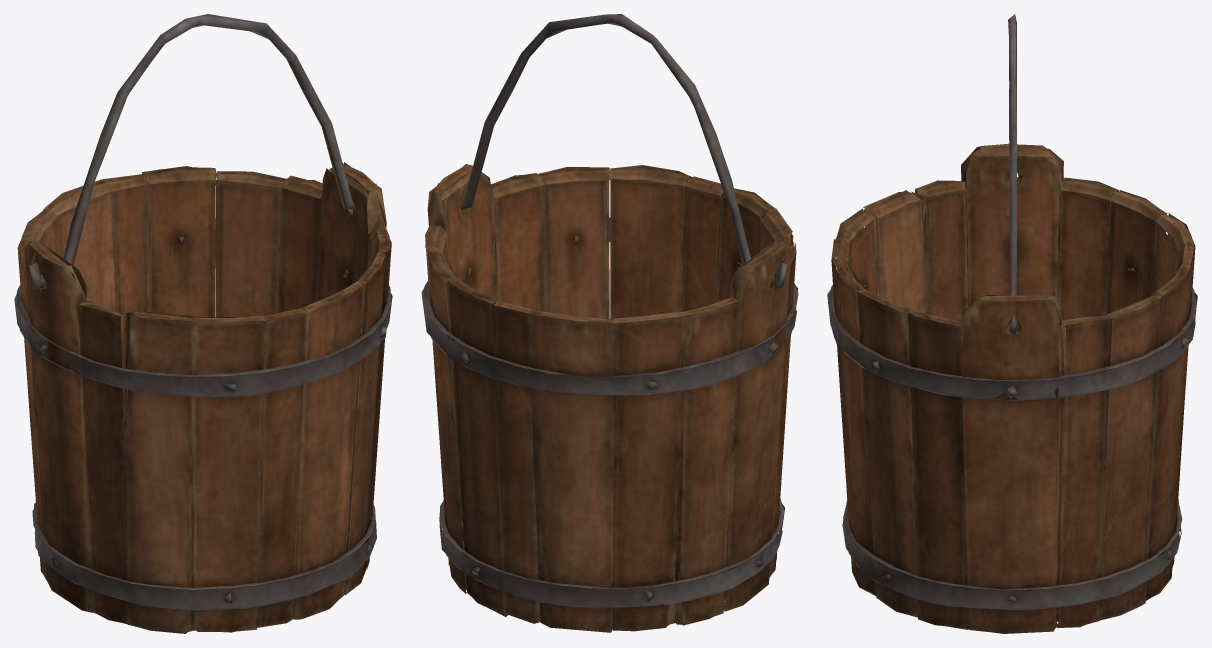
Rendered from wooden_bucket_01.glb.
The picture shows the model from 3 angles, left to right: view 1: azimuth 30°, elevation 25°; view 2: azimuth 150°, elevation 25°; view 3: azimuth 270°, elevation 25°; orthographic projection.
Parts seen in each view (by area): view 1: wooden_bucket_01, wooden_bucket_01_handle; view 2: wooden_bucket_01, wooden_bucket_01_handle; view 3: wooden_bucket_01, wooden_bucket_01_handle.
Part boxes in pixels (left/top/right/bottom): wooden_bucket_01: left=14, top=162, right=392, bottom=633; wooden_bucket_01_handle: left=29, top=14, right=376, bottom=288; wooden_bucket_01: left=421, top=164, right=798, bottom=632; wooden_bucket_01_handle: left=437, top=14, right=786, bottom=288; wooden_bucket_01: left=827, top=143, right=1197, bottom=633; wooden_bucket_01_handle: left=1008, top=14, right=1016, bottom=335.
Bounding box in the file's own units: 0.3667 × 0.5521 × 0.3418.
Materials: 1 (1 with a texture image).
